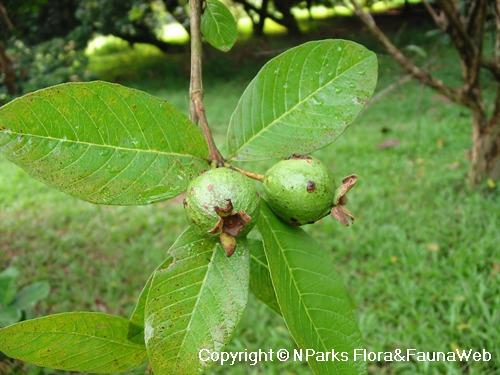oi: (265, 147, 358, 238), (182, 160, 264, 257)
